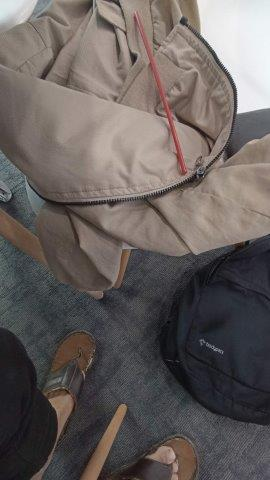sedotan: (134, 12, 186, 174)
